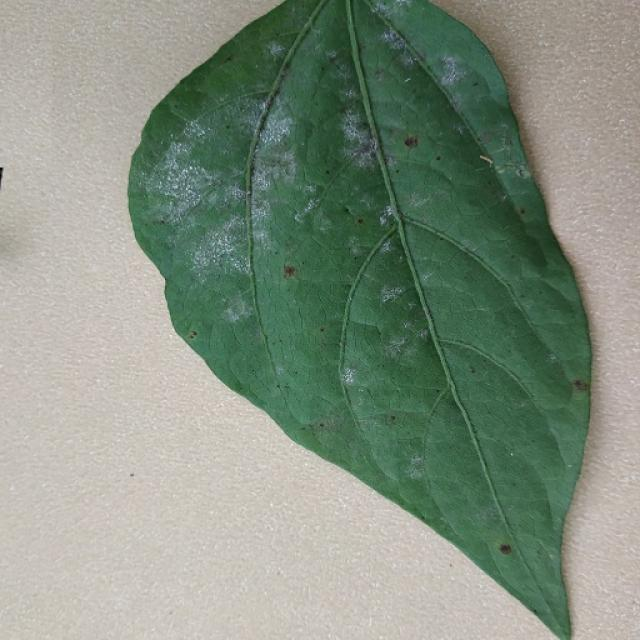Blackgram: (129, 0, 590, 639)
Powdery_Mildew: (246, 71, 380, 265), (377, 17, 507, 155), (155, 109, 242, 232), (249, 129, 295, 245), (254, 107, 291, 168), (340, 107, 373, 157), (378, 20, 413, 56), (371, 1, 406, 26), (438, 55, 465, 85), (384, 331, 412, 359), (222, 299, 250, 325), (407, 453, 426, 478), (268, 42, 285, 57), (343, 366, 356, 384), (275, 364, 288, 379)
